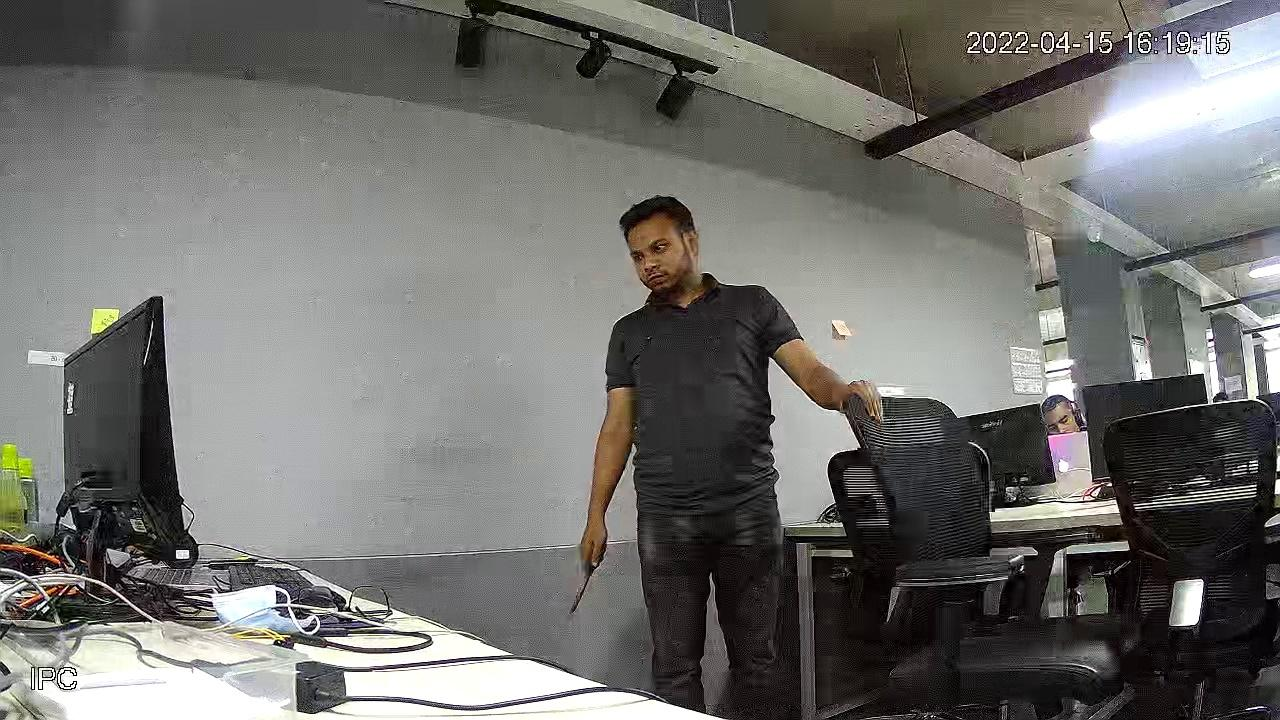knives: (556, 543, 614, 631)
